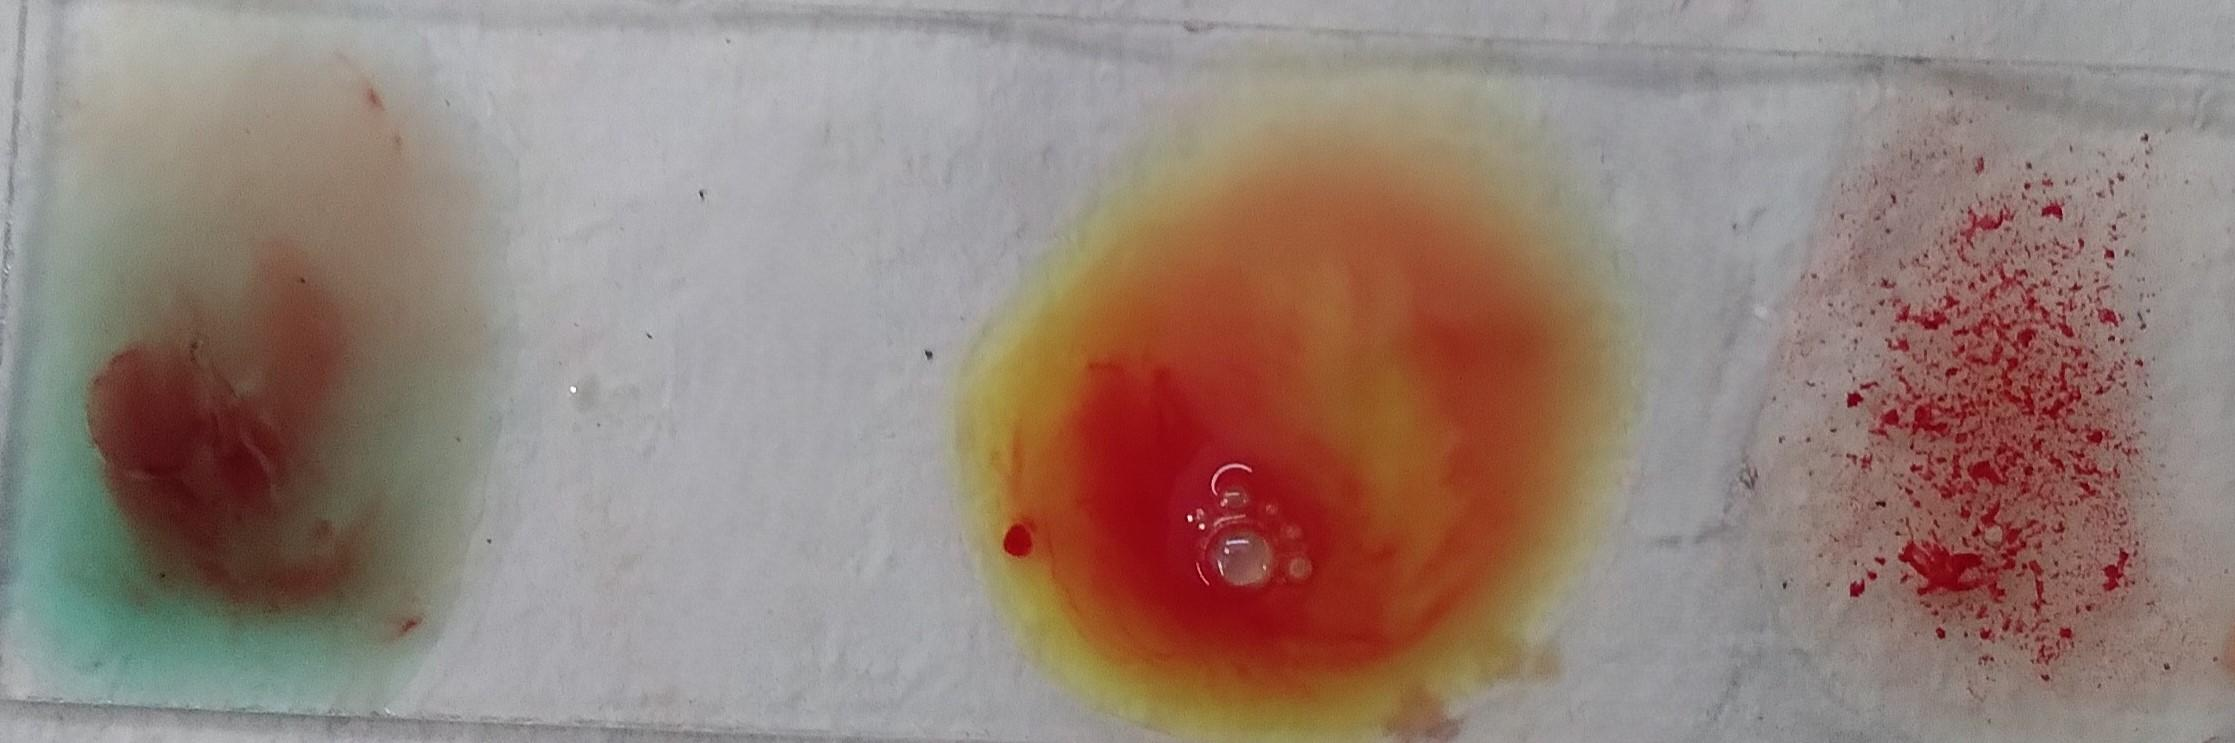D: (1726, 110, 2202, 695)
